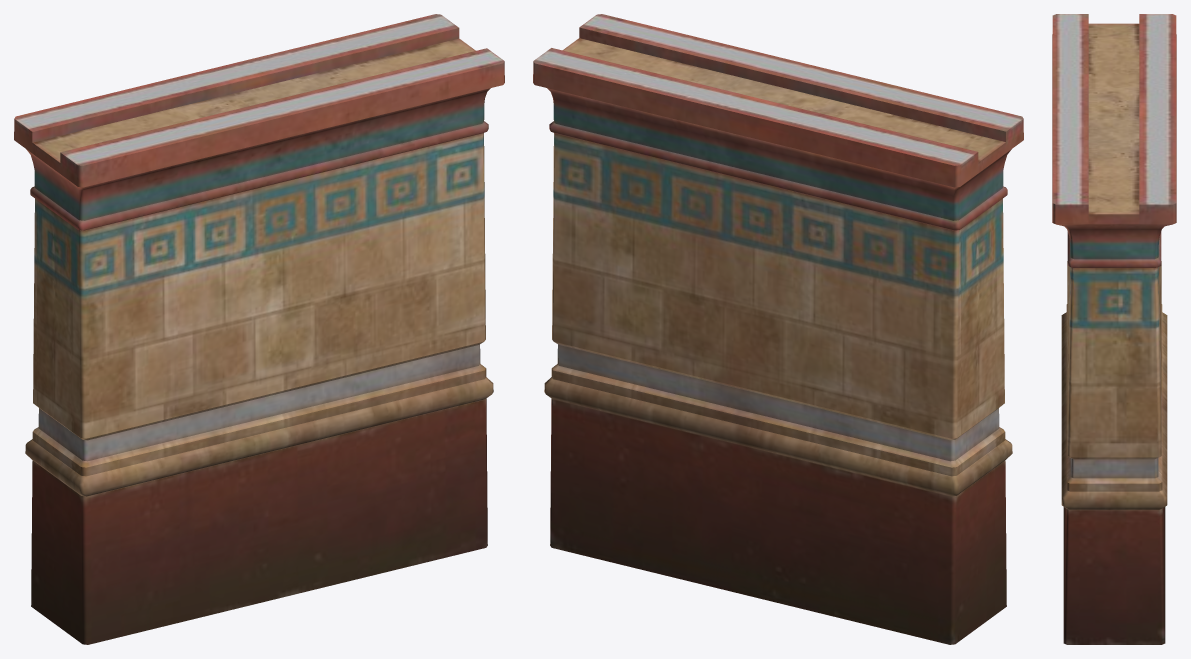
The model's file is 69-stonewall-wall_stone_z_short.glb.
3 renders of one model, left to right at view 1: azimuth 30°, elevation 25°; view 2: azimuth 150°, elevation 25°; view 3: azimuth 270°, elevation 25°, orthographic. The views are drawn at different scales.
Bounding box in the file's own units: 4.45 × 4.84 × 1.22.
Materials: 1 (1 with a texture image).
